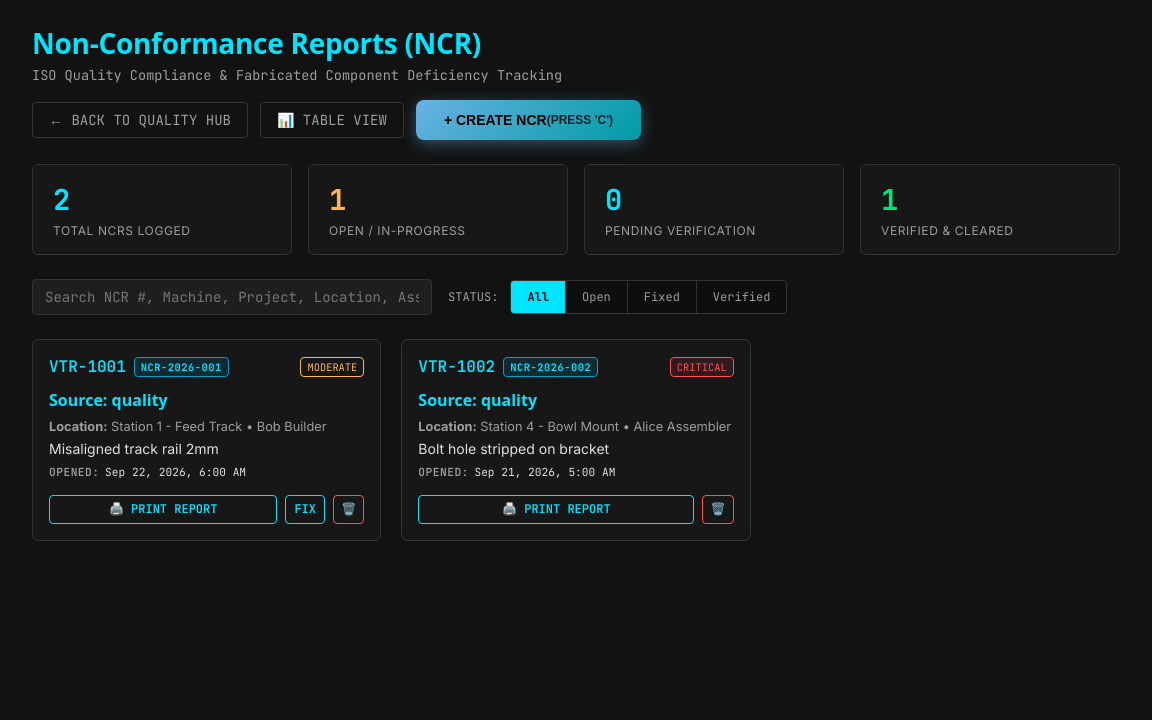
Test: NCRTrackerPage › toggles between cards view and table view
Click the button "📊 Table View". click: (332, 120)
box: [260, 102, 404, 138]
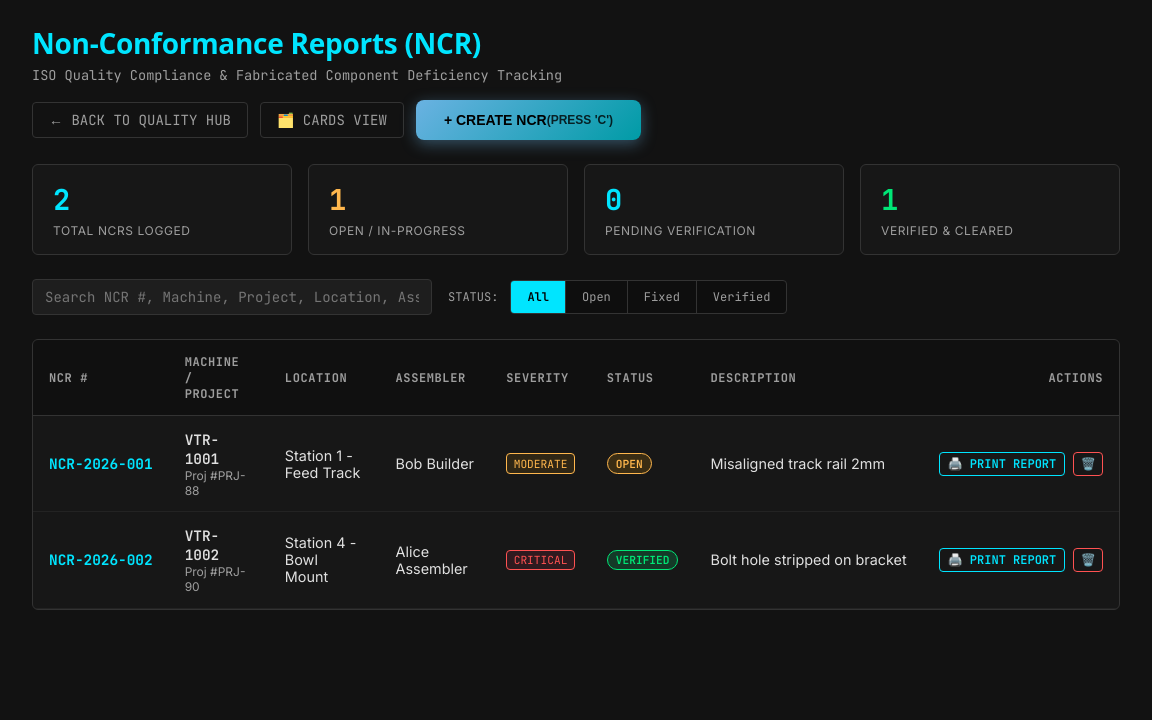
Expected: the text "Station 1 - Feed Track" is shown, [269, 416, 380, 512]
Expected: the button "🗂️ Cards View" is shown, [260, 102, 404, 138]
Expected: the table is shown, [33, 340, 1119, 609]
